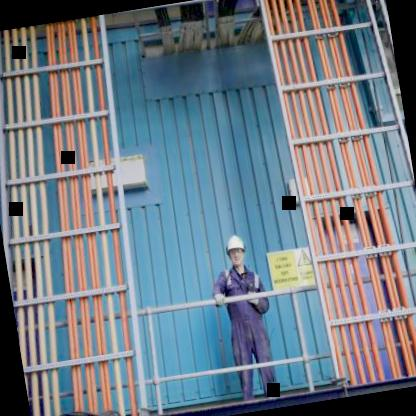helmet: (222, 230, 251, 270)
